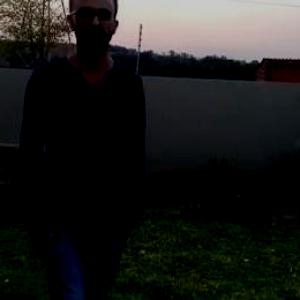follow: (7, 0, 144, 299)
